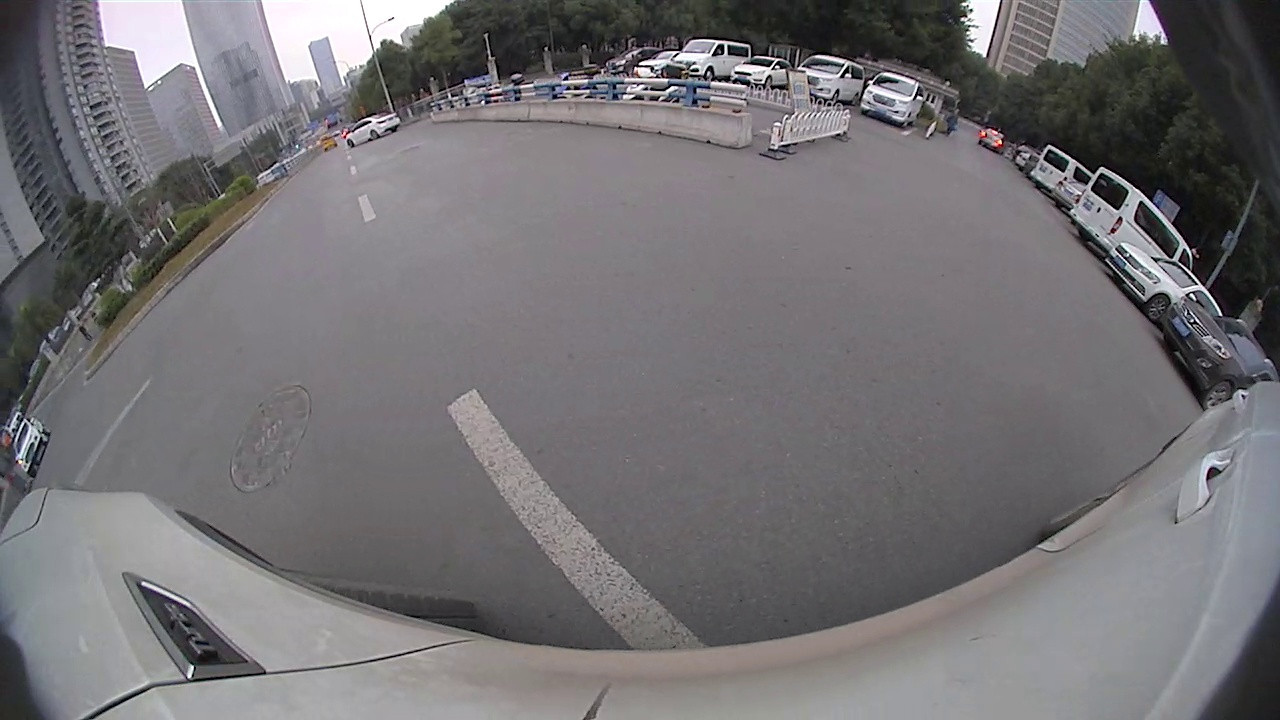car: (1067, 163, 1195, 278), (1161, 298, 1279, 414), (1104, 241, 1221, 328), (790, 52, 866, 111), (859, 66, 929, 130), (670, 36, 751, 85), (1028, 142, 1095, 196), (9, 408, 48, 479), (729, 54, 797, 93), (343, 111, 405, 151)
front: (1199, 379, 1234, 410), (1143, 291, 1170, 324)
rear: (370, 129, 379, 140)
